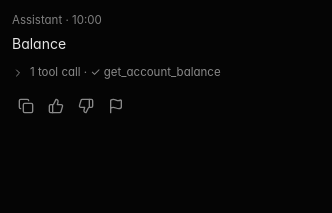
Test: MessageView › operators can expand the tool trace
Click the button "1 tool call · ✓ get_account_balance". click: [116, 73]
box: [12,64,221,81]
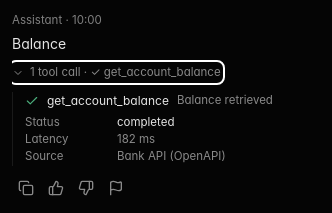
Expected: the text "182 ms" is shown, [117,132,155,146]
Expected: the text "Bank API (OpenAPI)" is shown, [117,149,226,163]
